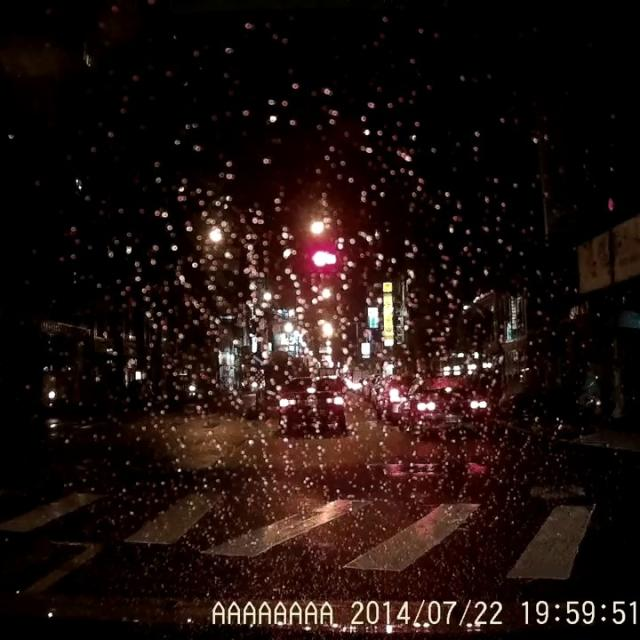Car: (394, 373, 494, 439), (274, 375, 346, 433), (375, 376, 413, 419)
